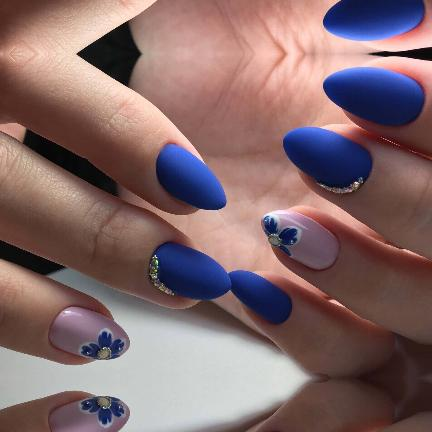Nail: (283, 126, 372, 195), (323, 66, 425, 126), (149, 241, 231, 299), (156, 143, 226, 210), (262, 210, 339, 269), (49, 306, 130, 359), (323, 0, 425, 40), (229, 270, 292, 323), (49, 397, 130, 432)
